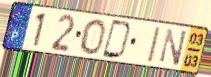1: (32, 12, 49, 48)
2: (49, 13, 77, 54)
D: (100, 18, 134, 61)
I: (146, 25, 163, 65)
N: (158, 27, 189, 69)
O: (78, 18, 106, 56)
